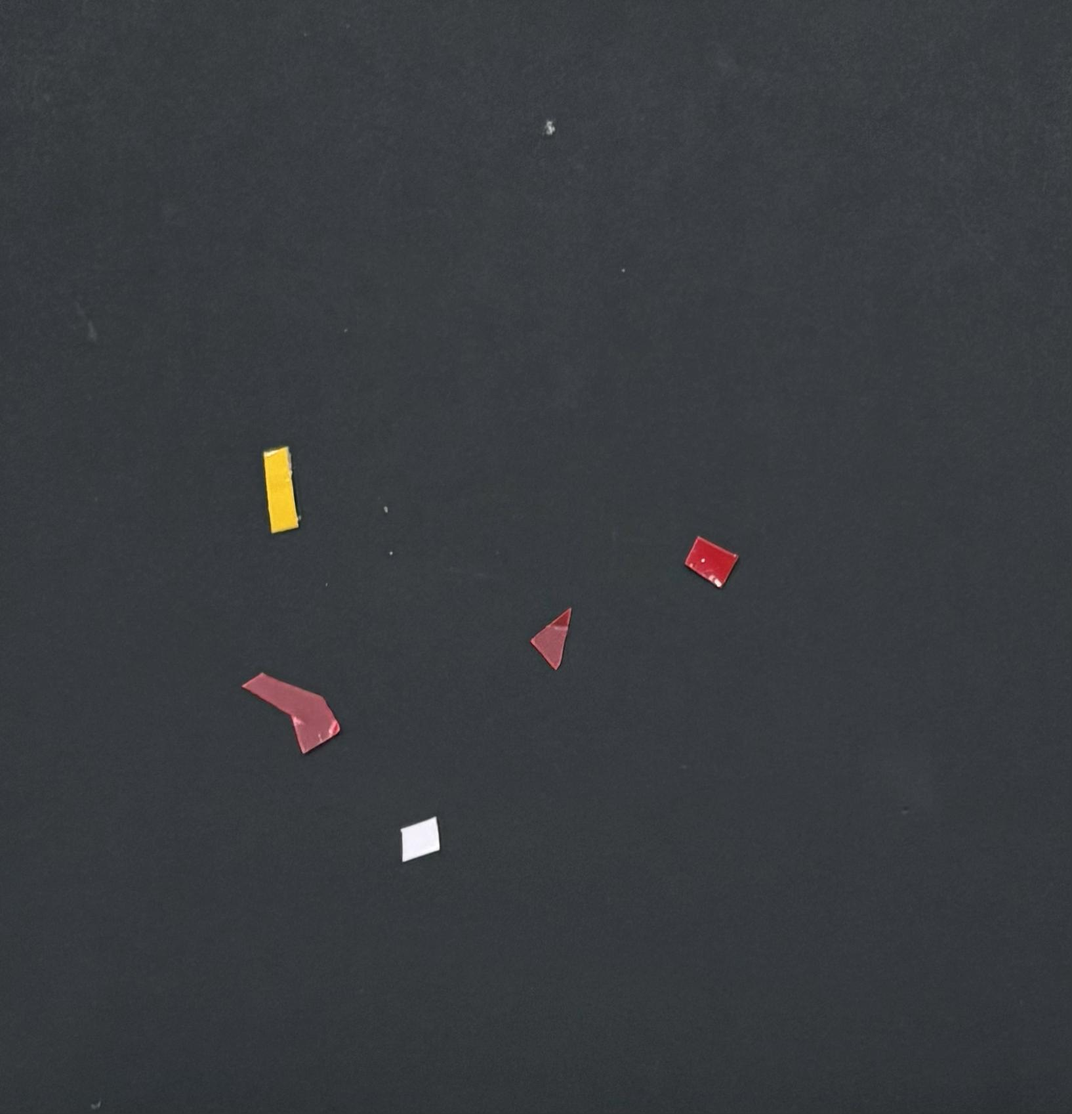Microplastic Particle: (238, 659, 359, 764), (251, 431, 321, 554), (529, 591, 586, 687), (687, 525, 759, 600), (391, 805, 450, 877)
